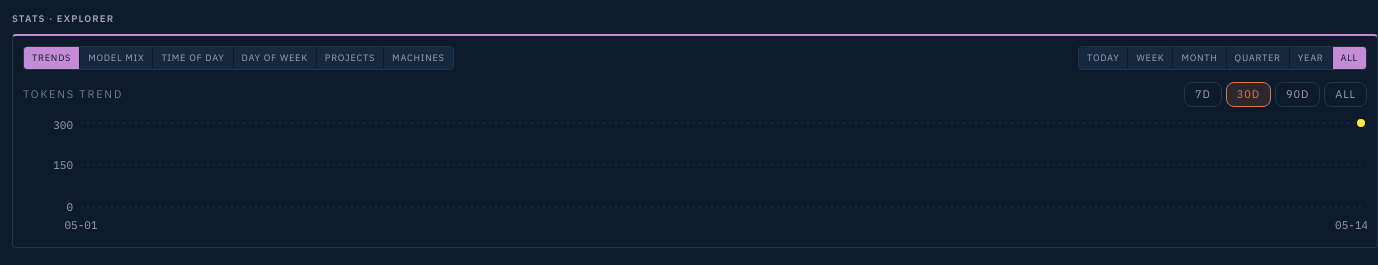
Test case: StatsExplorer › narrows the data when the window changes to today
The width and height of the screenshot is (1378, 265).
Click the radio button labelled "projects".
click(350, 58)  # box [317,47,383,69]
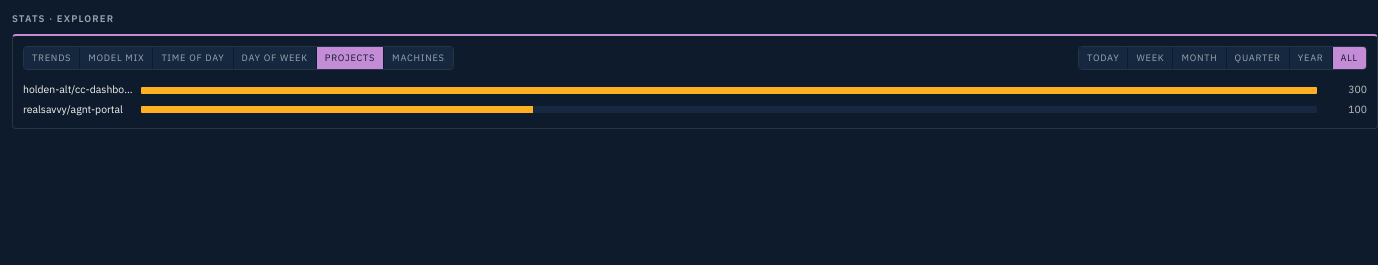
Now the element showing "holden-alt/cc-dashboard 300 realsavvy/agnt-portal 100" is shown, box [23,82,1367,118]
Click the radio button labelled "today".
click(1103, 58)  # box [1079,47,1128,69]
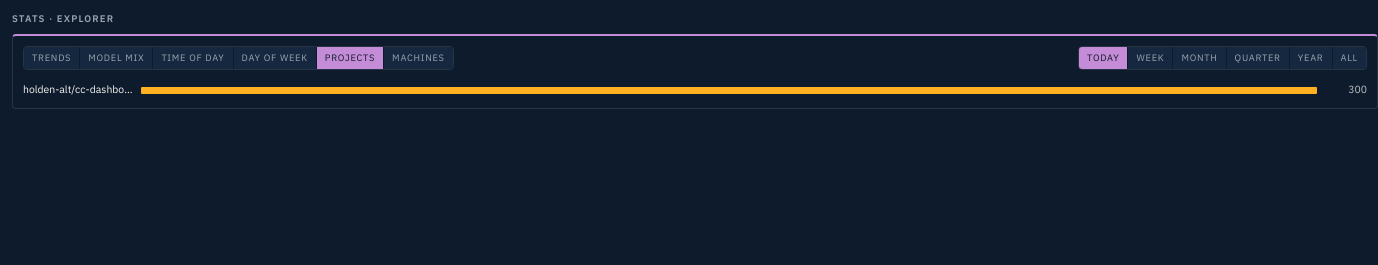
Now the element showing "holden-alt/cc-dashboard 300" is shown, box [23,82,1367,98]
Now the text "realsavvy/agnt-portal" is gone
